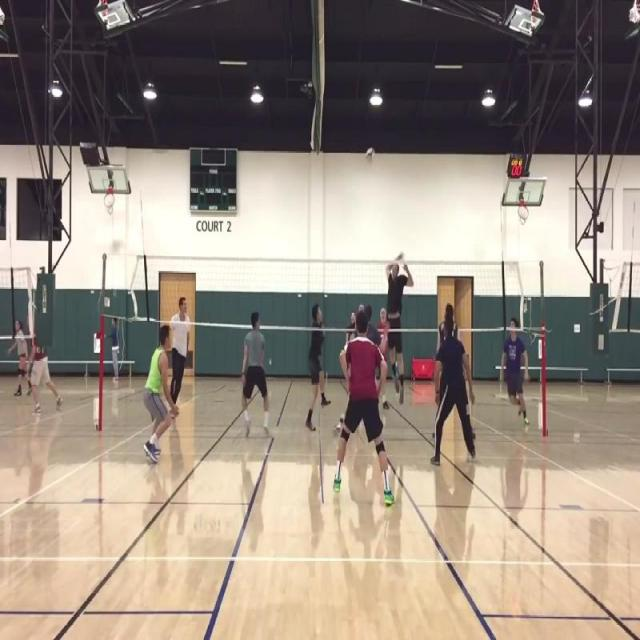volleyball: (365, 147, 375, 164)
